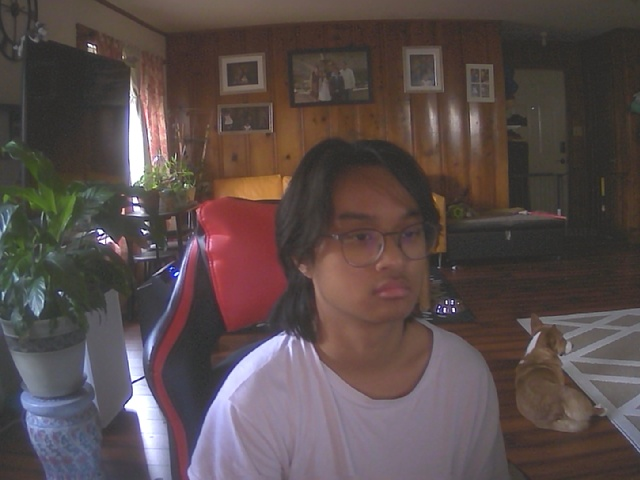neutral: (291, 147, 439, 337)
